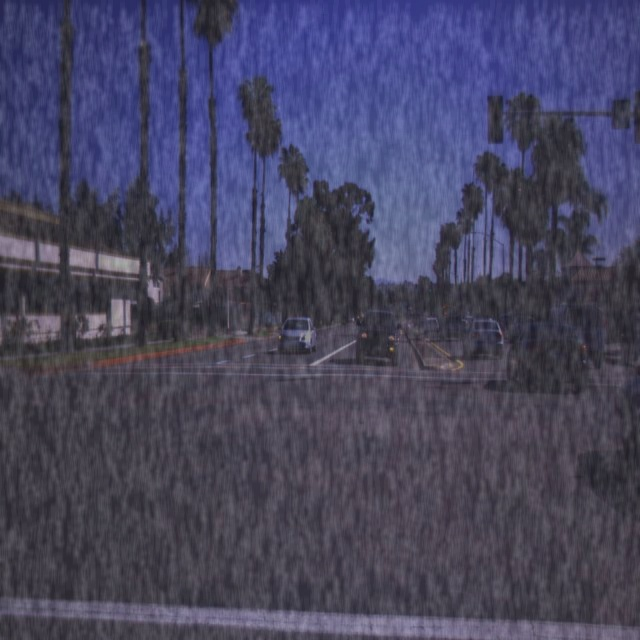go left: (491, 128, 498, 137)
go left traffic light: (484, 95, 505, 142)
